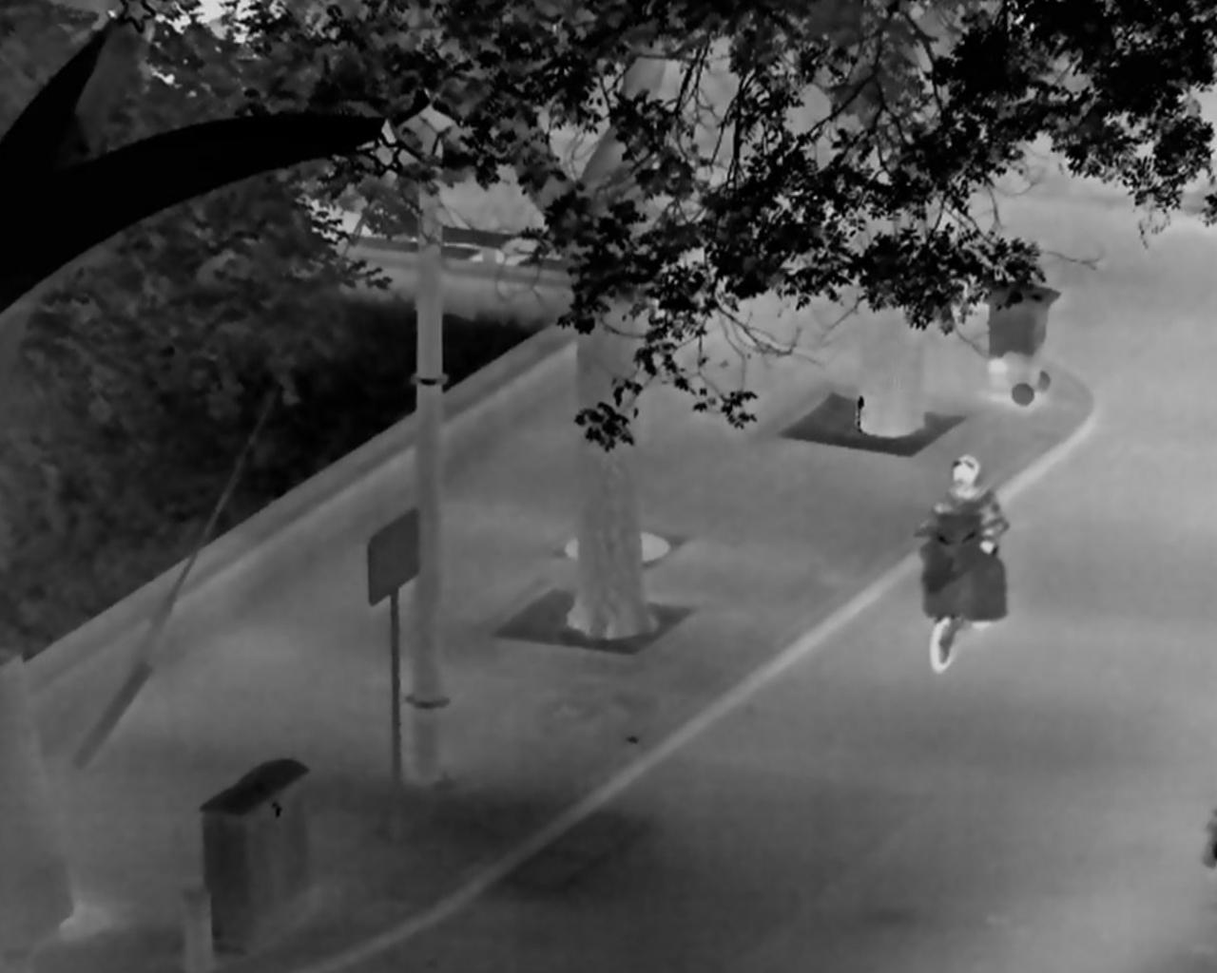person: (915, 454, 1008, 631)
